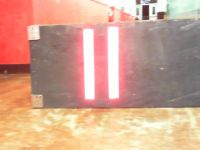switch: (82, 29, 95, 100), (108, 27, 120, 99)
